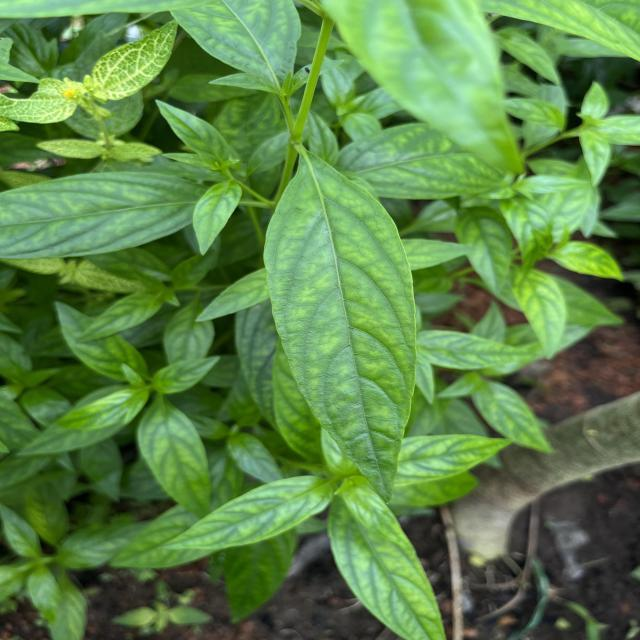Andrographis paniculata: (260, 154, 420, 506), (0, 168, 200, 260), (326, 504, 448, 640), (156, 474, 333, 551), (134, 399, 214, 519), (396, 433, 516, 487), (472, 380, 554, 455), (154, 98, 232, 165), (455, 208, 514, 296), (516, 269, 570, 361), (418, 330, 534, 370), (192, 178, 244, 258)
